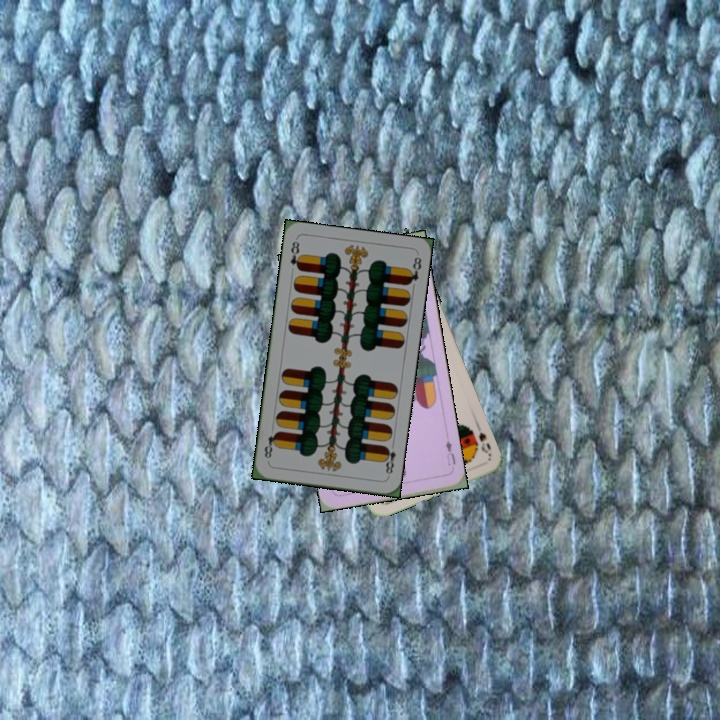E8: (379, 439, 398, 479), (286, 237, 304, 273)
EU: (442, 433, 458, 468)
SO: (475, 428, 494, 458)
